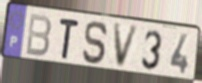3: (140, 29, 163, 72)
4: (168, 32, 190, 76)
B: (24, 12, 53, 58)
S: (81, 20, 110, 66)
T: (58, 17, 81, 62)
V: (112, 23, 141, 70)
